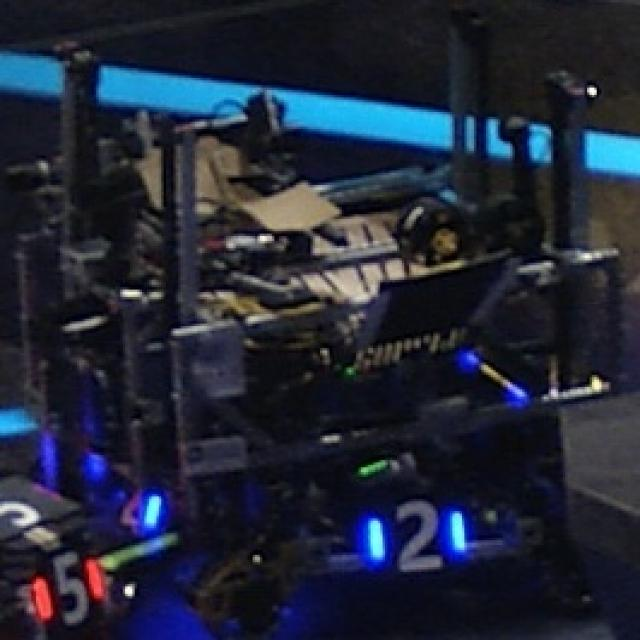B2: (363, 499, 469, 574)
R5: (32, 547, 108, 623)
